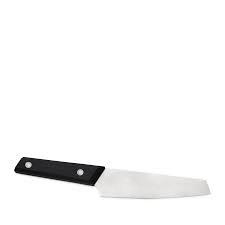Knife: (13, 156, 211, 199)
